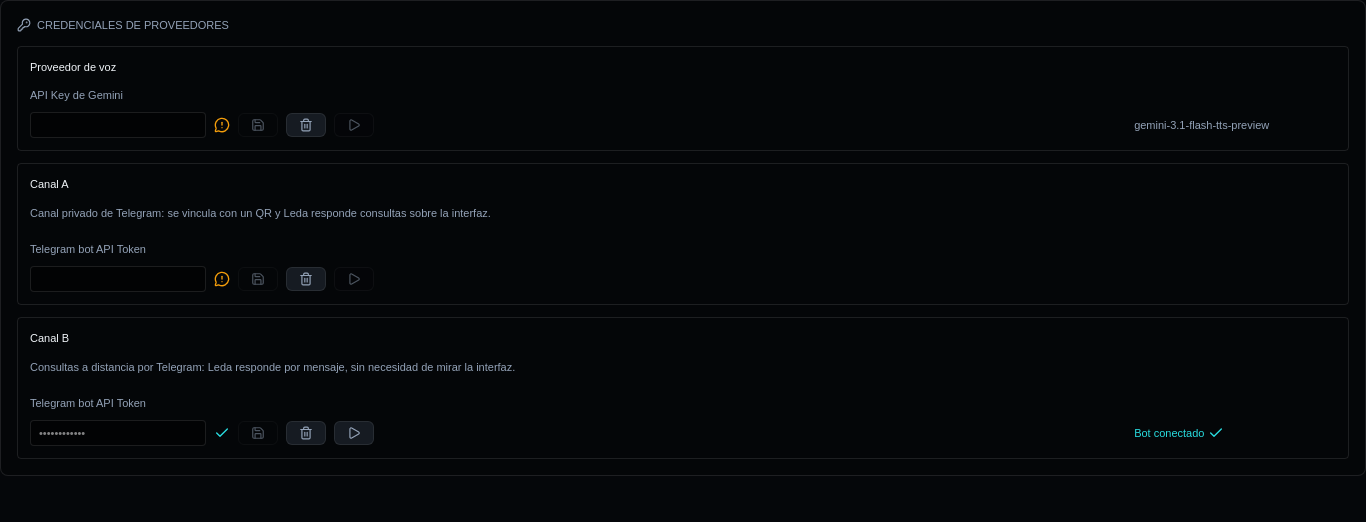
Scenario: VoiceCredentialSettings › shows truthful diagnostics, preserves submitted bytes, and clears the local secret after completion
The width and height of the screenshot is (1366, 522).
Expected: the picture named "Credencial no configurada" in the row of "gemini-3.1-flash-tts-preview" is shown, [214,117,230,133]
Expected: the text "gemini-3.1-flash-tts-preview" is shown, [1134,116,1269,133]
Type "  synthetic-secret  " into the field labelled "API Key de Gemini" at (118, 125), box [30,112,206,138]
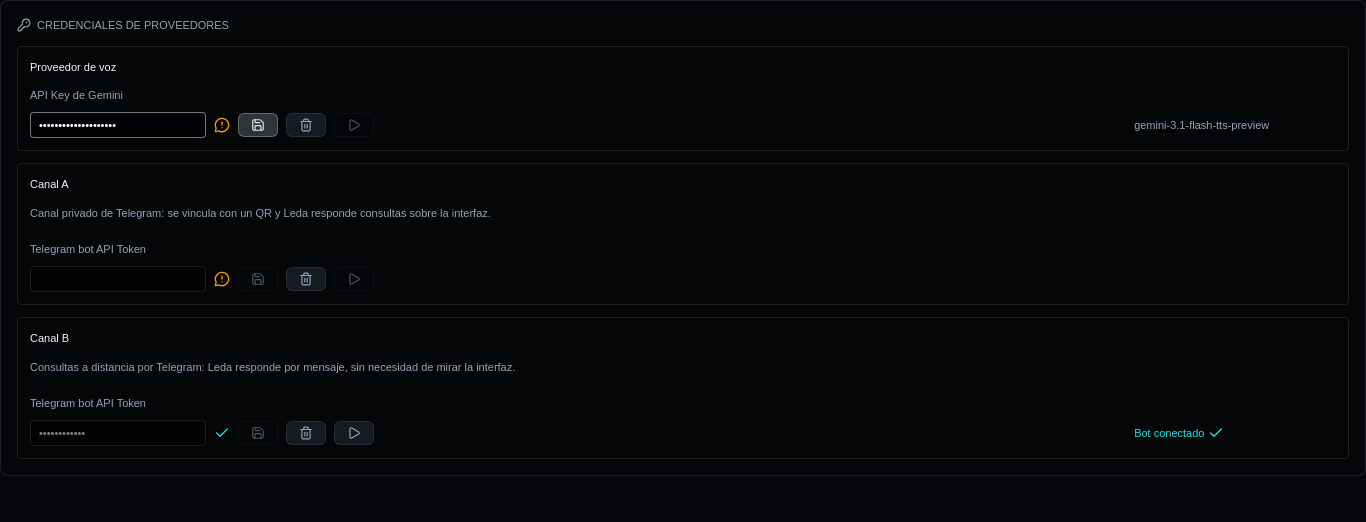
Click the button named "Guardar credencial" in the row of "gemini-3.1-flash-tts-preview" at (258, 125), box [238,113,278,137]
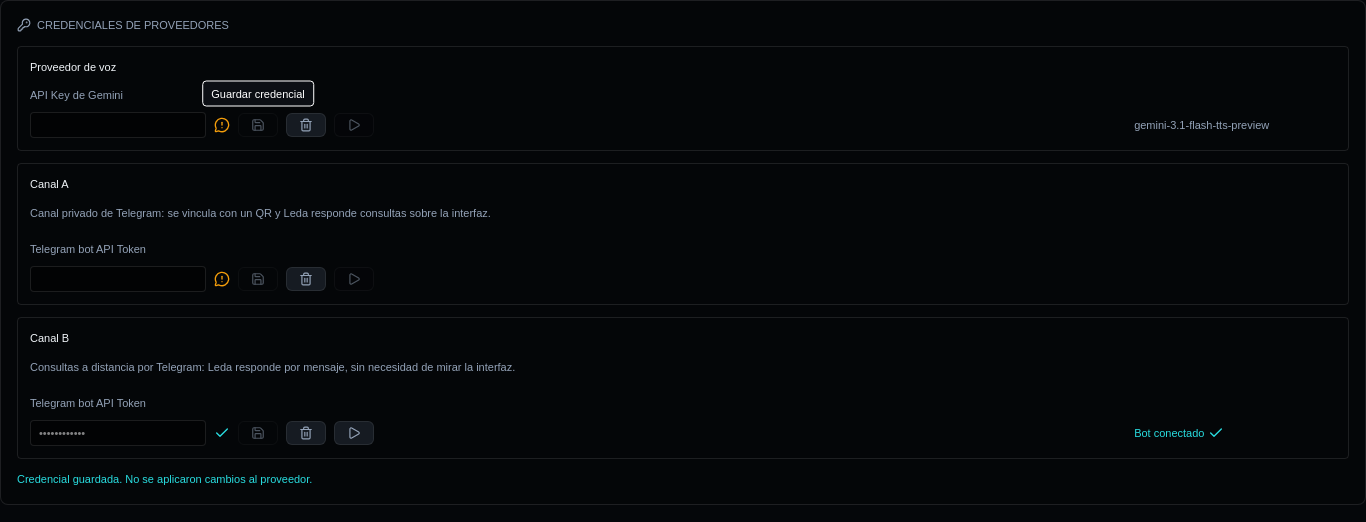
Expected: the field labelled "API Key de Gemini" is empty, [30,112,206,138]
Expected: the text "Credencial guardada. No se aplicaron cambios al proveedor." is shown, [17,473,312,485]
